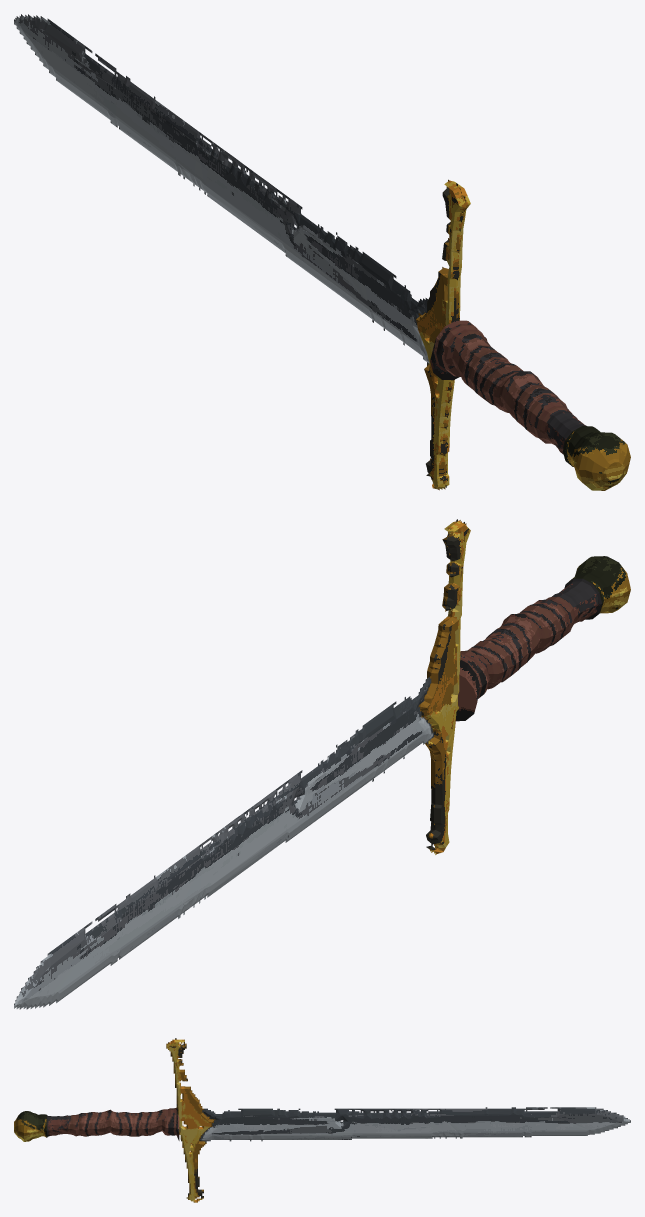
Rendered from longsword.glb.
The picture shows the model from 3 angles, top to bottom: view 1: azimuth 30°, elevation 25°; view 2: azimuth 150°, elevation 25°; view 3: azimuth 270°, elevation 25°; orthographic projection. The views are drawn at different scales.
Parts seen in each view (by area): view 1: blade, grip, guard, pommel; view 2: blade, guard, grip, pommel; view 3: blade, grip, guard, pommel.
Boxes of the visible parts, left/top/right/bottom form: blade: left=14, top=14, right=429, bottom=364; grip: left=430, top=320, right=586, bottom=454; guard: left=416, top=179, right=470, bottom=490; pommel: left=563, top=426, right=630, bottom=490; blade: left=14, top=677, right=433, bottom=1009; guard: left=418, top=519, right=470, bottom=854; grip: left=455, top=578, right=601, bottom=721; pommel: left=566, top=556, right=630, bottom=613; blade: left=199, top=1107, right=630, bottom=1142; grip: left=47, top=1107, right=179, bottom=1140; guard: left=166, top=1038, right=215, bottom=1202; pommel: left=14, top=1111, right=46, bottom=1141.
Bounding box in the file's own units: 0.0548 × 0.3212 × 1.09.
Materials: 2 (2 with a texture image).
